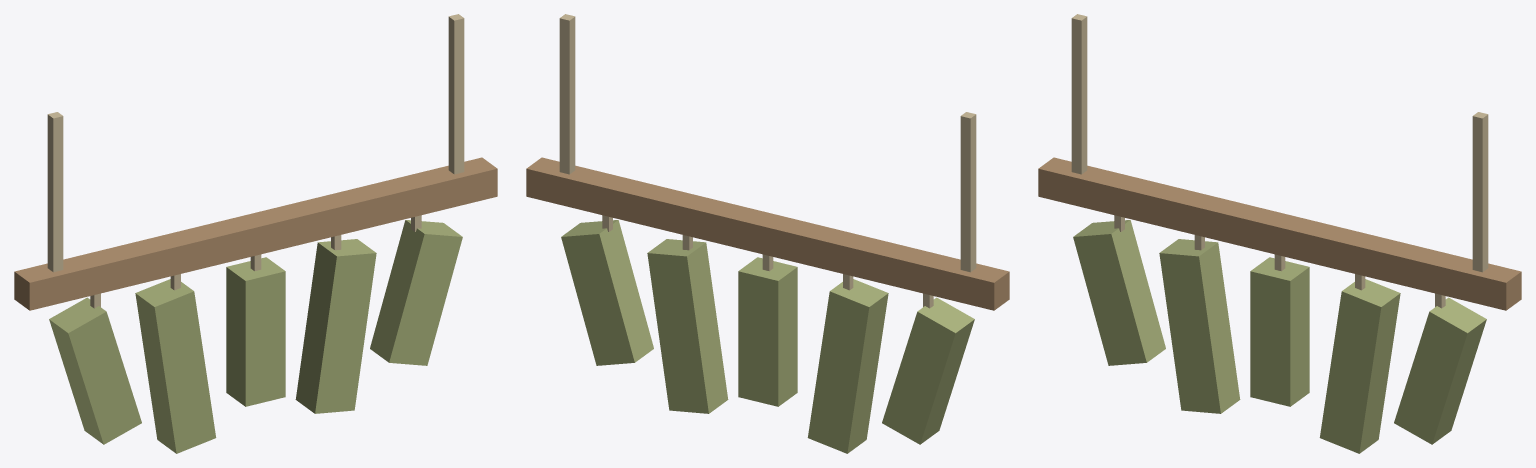
File: prop-herb-rack-hang.fbx
3 views of the same model, side by side, from view 1: azimuth 30°, elevation 25°; view 2: azimuth 150°, elevation 25°; view 3: azimuth 330°, elevation 25° (orthographic).
Visible parts, largest first — view 1: prop-herb-rack-hang; view 2: prop-herb-rack-hang; view 3: prop-herb-rack-hang.
Part boxes in pixels (box(x1,y1,x2,y2)): prop-herb-rack-hang: box(14, 14, 497, 453); prop-herb-rack-hang: box(526, 14, 1009, 453); prop-herb-rack-hang: box(1038, 14, 1521, 453).
Size of the model in its own units: 70 by 51.32 by 5.
